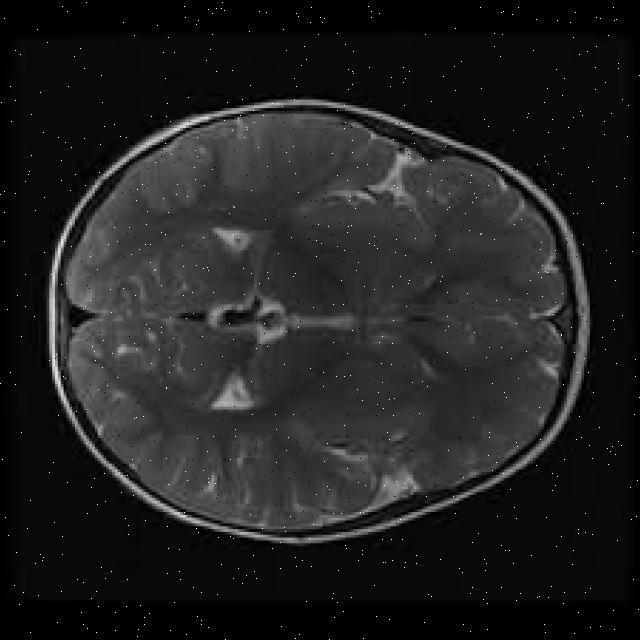No_Tumor: (48, 99, 589, 543)
